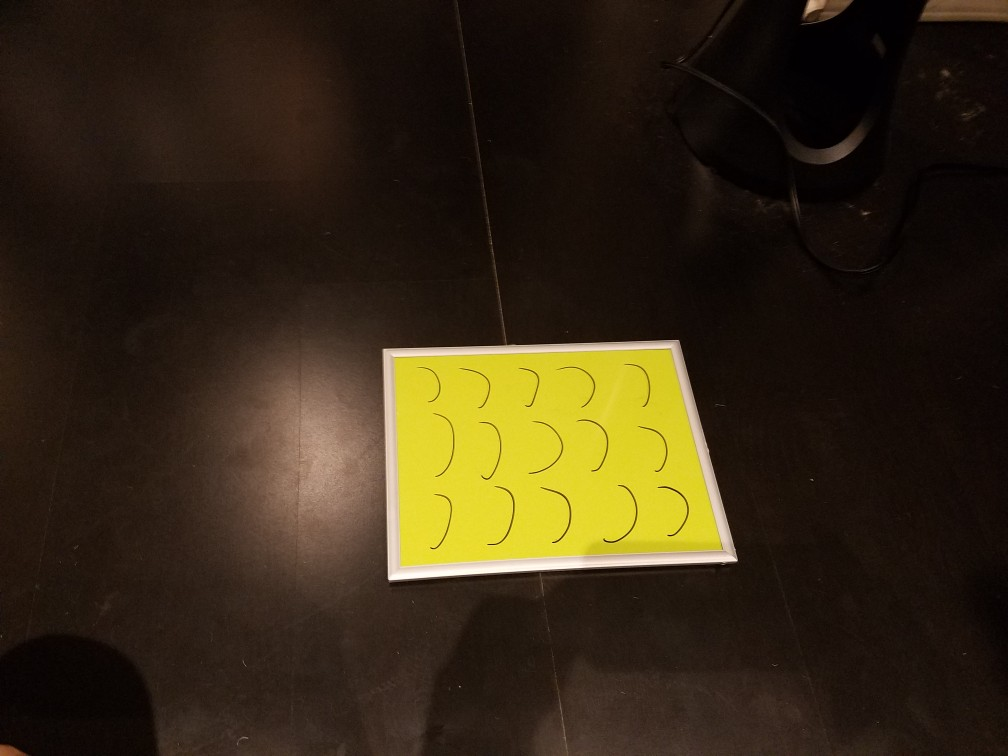): (477, 479, 522, 554), (601, 480, 645, 547), (535, 480, 577, 548), (526, 416, 569, 481), (635, 418, 679, 481), (468, 413, 506, 485), (652, 480, 695, 542), (560, 359, 606, 410), (422, 488, 456, 556), (458, 360, 500, 412), (621, 357, 658, 415), (580, 415, 613, 480), (429, 410, 457, 482), (512, 359, 544, 409), (416, 360, 441, 409)
